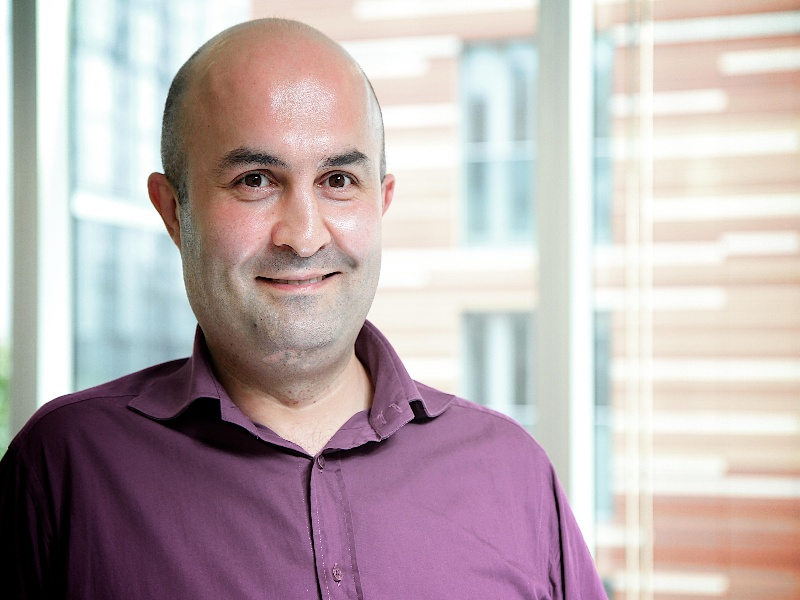face: (192, 109, 384, 346)
